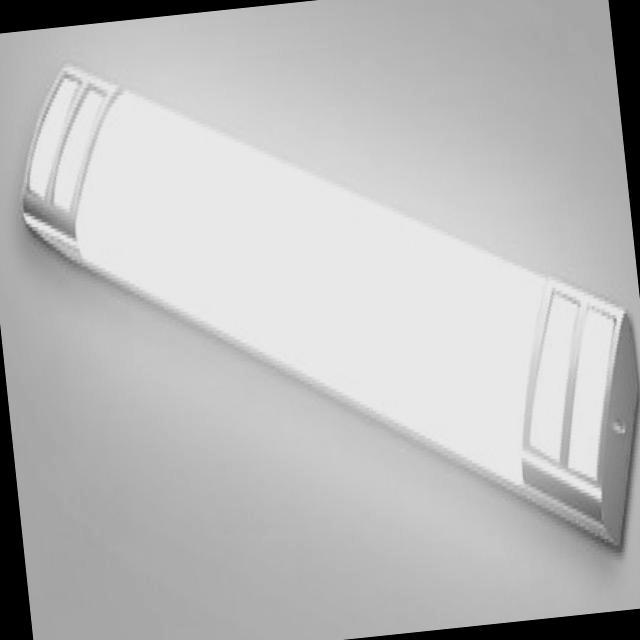light: (19, 60, 638, 551)
